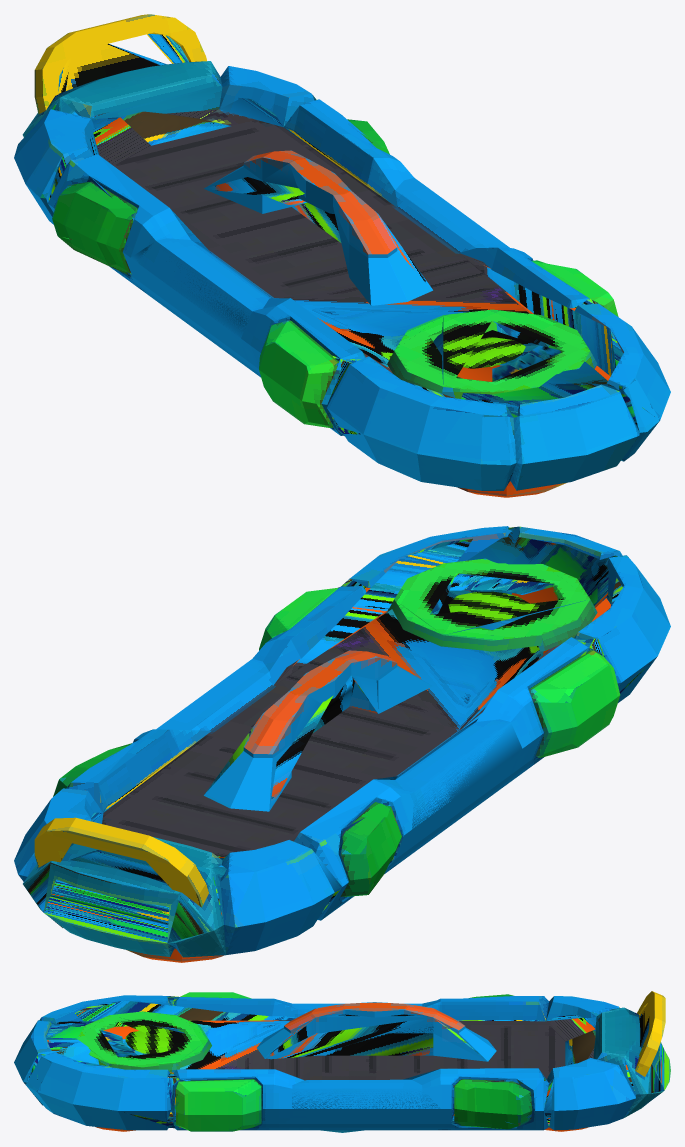
The model's file is item_hoverboard_sky.glb.
3 views of the same model, one above another, from view 1: azimuth 30°, elevation 25°; view 2: azimuth 150°, elevation 25°; view 3: azimuth 270°, elevation 25° (orthographic). The views are drawn at different scales.
Visible parts, largest first — view 1: default; view 2: default; view 3: default.
Part boxes in pixels (box(x1,y1,x2,y2)): default: box(14, 14, 670, 497); default: box(14, 526, 670, 962); default: box(14, 991, 670, 1132).
Size of the model in its own units: 0.3789 by 0.1934 by 1.
Materials: 1 (1 with a texture image).
